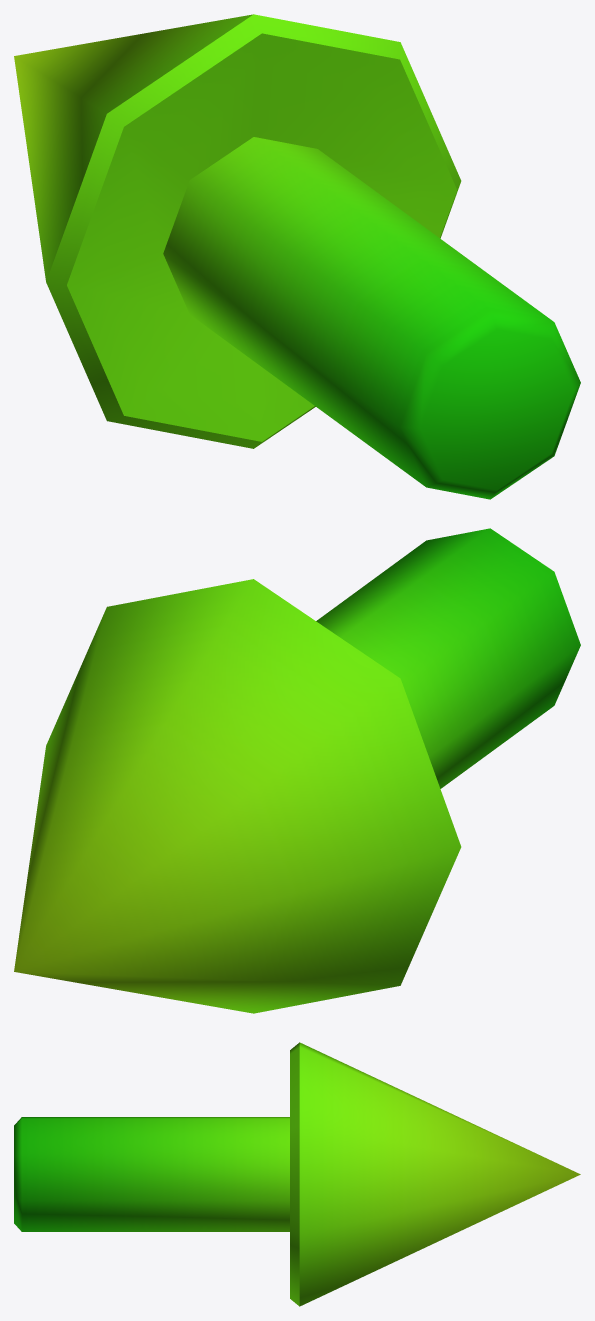
Rendered from Arrow.fbx.
3 views of the same model, one above another, from view 1: azimuth 30°, elevation 25°; view 2: azimuth 150°, elevation 25°; view 3: azimuth 270°, elevation 25° (orthographic). The views are drawn at different scales.
Visible parts, largest first — view 1: Arrow; view 2: Arrow; view 3: Arrow.
Part boxes in pixels (left/top/right/bottom): Arrow: left=14, top=14, right=580, bottom=499; Arrow: left=14, top=528, right=580, bottom=1013; Arrow: left=14, top=1042, right=580, bottom=1306.
Size of the model in its own units: 63.18 by 63.18 by 127.
